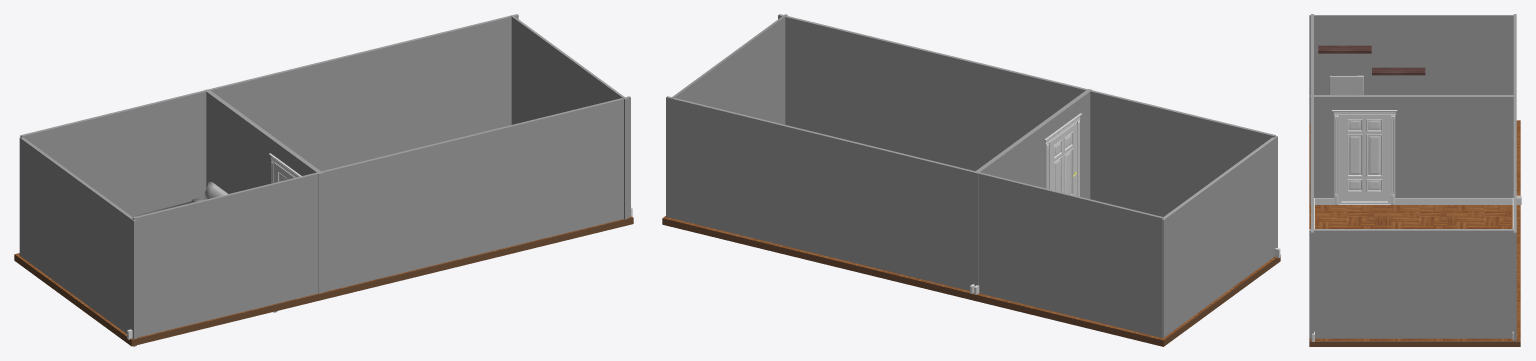
Rendered from room.fbx.
3 renders of one model, left to right at view 1: azimuth 30°, elevation 25°; view 2: azimuth 150°, elevation 25°; view 3: azimuth 270°, elevation 25°, orthographic. The views are drawn at different scales.
Parts seen in each view (by area): view 1: pCube1, pCube4, pCube2, pCube13, pCube5, pCube3; view 2: pCube4, pCube1, pCube2, pCube13, pCube3, pCube5; view 3: pCube13, pCube5, pCube2, pCube3, pCube4, pCube22, pCube1, Full_Bedroom:Computer, Door:Body5, Door:Body68, Door:Body60.002, Door:Body7 (+13 smaller).
Boxes of the visible parts, x1=… form: pCube1: x1=132, y1=96, x2=630, y2=337; pCube4: x1=20, y1=14, x2=518, y2=217; pCube2: x1=19, y1=137, x2=136, y2=346; pCube13: x1=510, y1=15, x2=627, y2=219; pCube5: x1=204, y1=89, x2=323, y2=312; pCube3: x1=14, y1=216, x2=633, y2=346; pCube4: x1=666, y1=96, x2=1163, y2=337; pCube1: x1=778, y1=14, x2=1275, y2=216; pCube2: x1=1162, y1=136, x2=1277, y2=337; pCube13: x1=671, y1=14, x2=787, y2=124; pCube3: x1=662, y1=216, x2=1280, y2=346; pCube5: x1=973, y1=89, x2=1091, y2=285; pCube13: x1=1309, y1=229, x2=1515, y2=338; pCube5: x1=1310, y1=95, x2=1516, y2=204; pCube2: x1=1309, y1=15, x2=1513, y2=122; pCube3: x1=1309, y1=120, x2=1520, y2=346; pCube4: x1=1513, y1=14, x2=1516, y2=340; pCube22: x1=1312, y1=195, x2=1521, y2=341; pCube1: x1=1311, y1=14, x2=1313, y2=340; Full_Bedroom:Computer: x1=1329, y1=75, x2=1363, y2=94; Door:Body5: x1=1341, y1=116, x2=1347, y2=201; Door:Body68: x1=1348, y1=135, x2=1361, y2=174; Door:Body60.002: x1=1390, y1=114, x2=1395, y2=204; Door:Body7: x1=1381, y1=116, x2=1387, y2=201.
Size of the model in its own units: 1331 by 436 by 539.
